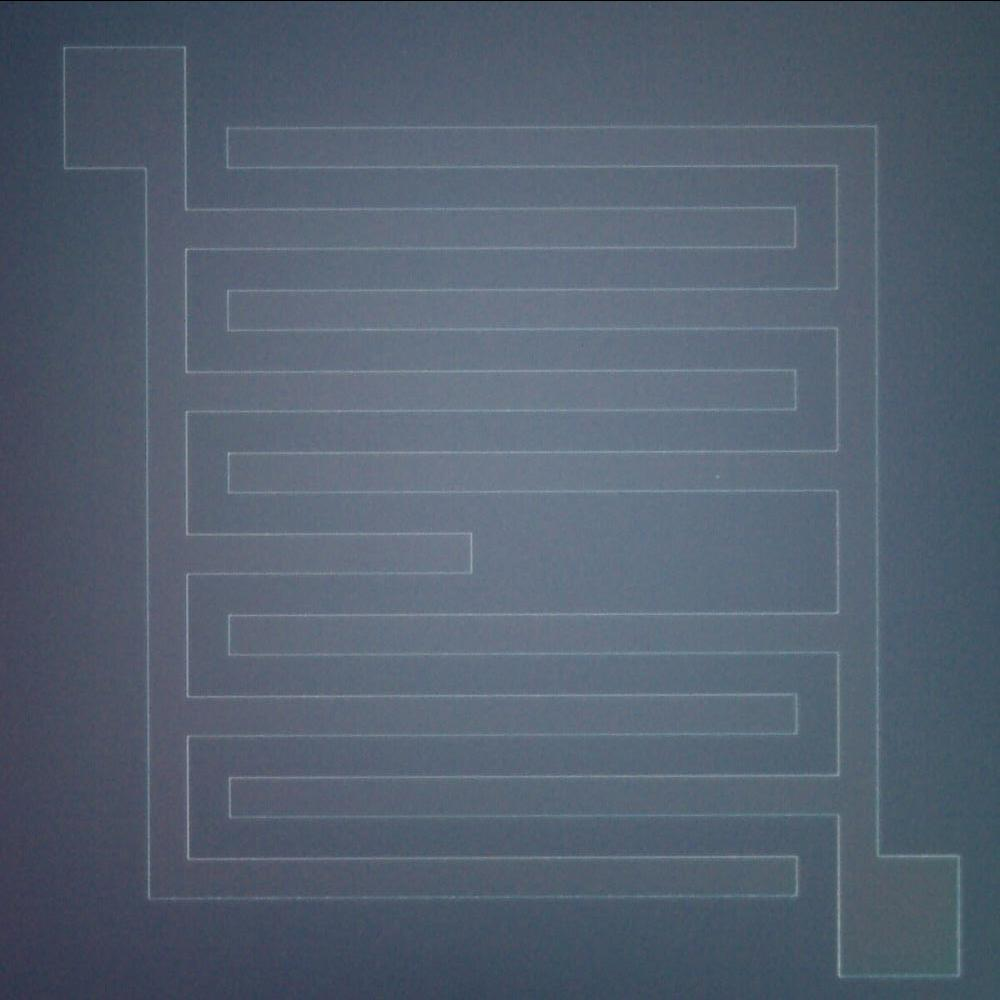cut circuit: (148, 507, 814, 602)
